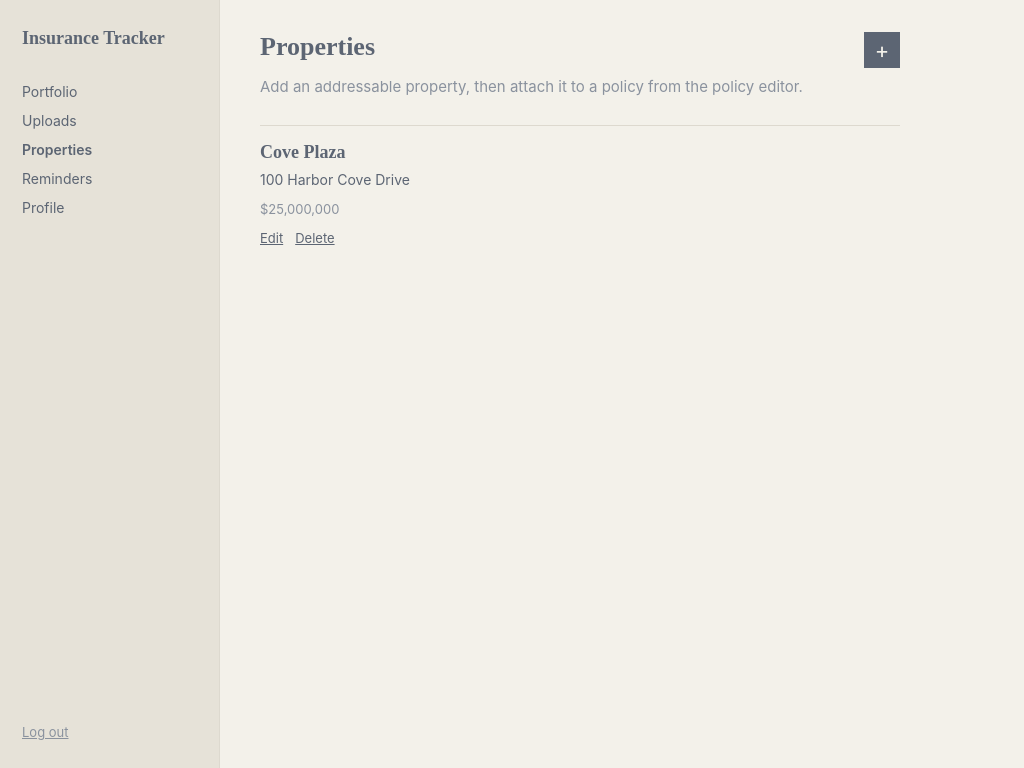
Test: portfolio management › does not claim an unattached property is linked to 0 policies
What coordinates should you click on to do the following:
click the button with aria-label "delete cove plaza"
I would click on:
 (315, 238)
Its box is [295, 230, 335, 246].
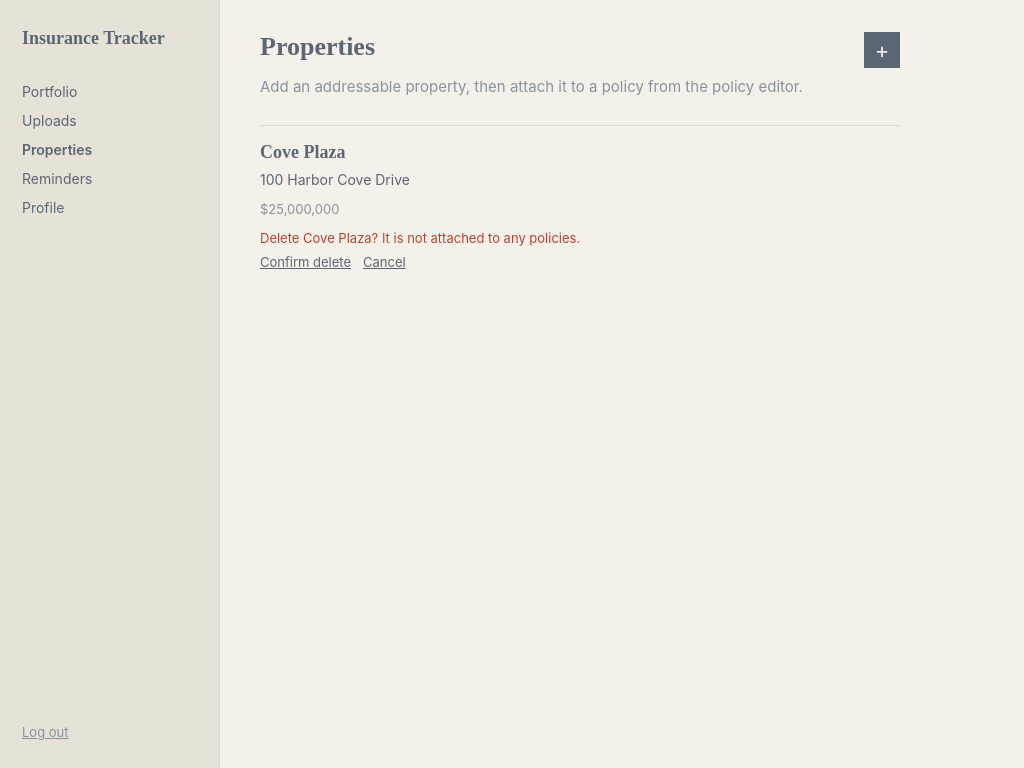
Expected: the text "Delete Cove Plaza? It is not attached to any policies." is shown, [260, 230, 580, 246]
